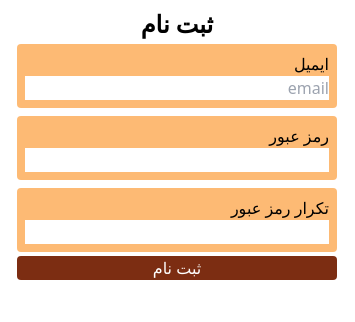
Test: Register page › Handle errors and navigation › Should show password error when intering invalid password
Expected: the text "رمز عبور باید حداقل 5 کاراکتر باشد" is not shown
Type "a@a.com" into the field labelled "ایمیل" at (177, 88), box [25, 76, 329, 100]
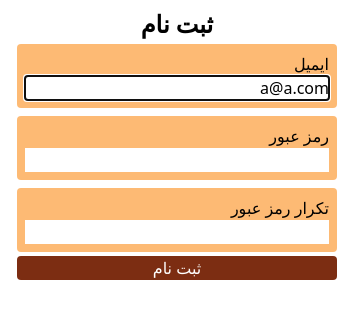
Type "123" into the password field labelled "رمز عبور" at (177, 160), box [25, 148, 329, 172]
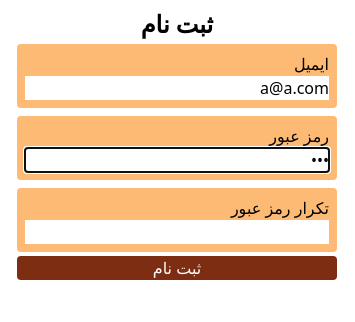
Type "12345" into the field labelled "تکرار رمز عبور" at (177, 232), box [25, 220, 329, 244]
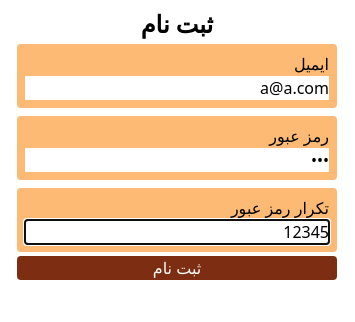
Click the button "ثبت نام" at (177, 268), box [17, 256, 337, 280]
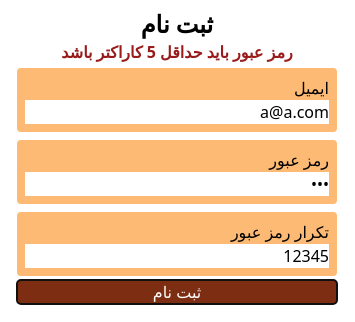
Expected: the text "رمز عبور باید حداقل 5 کاراکتر باشد" is shown, [61, 40, 293, 64]
